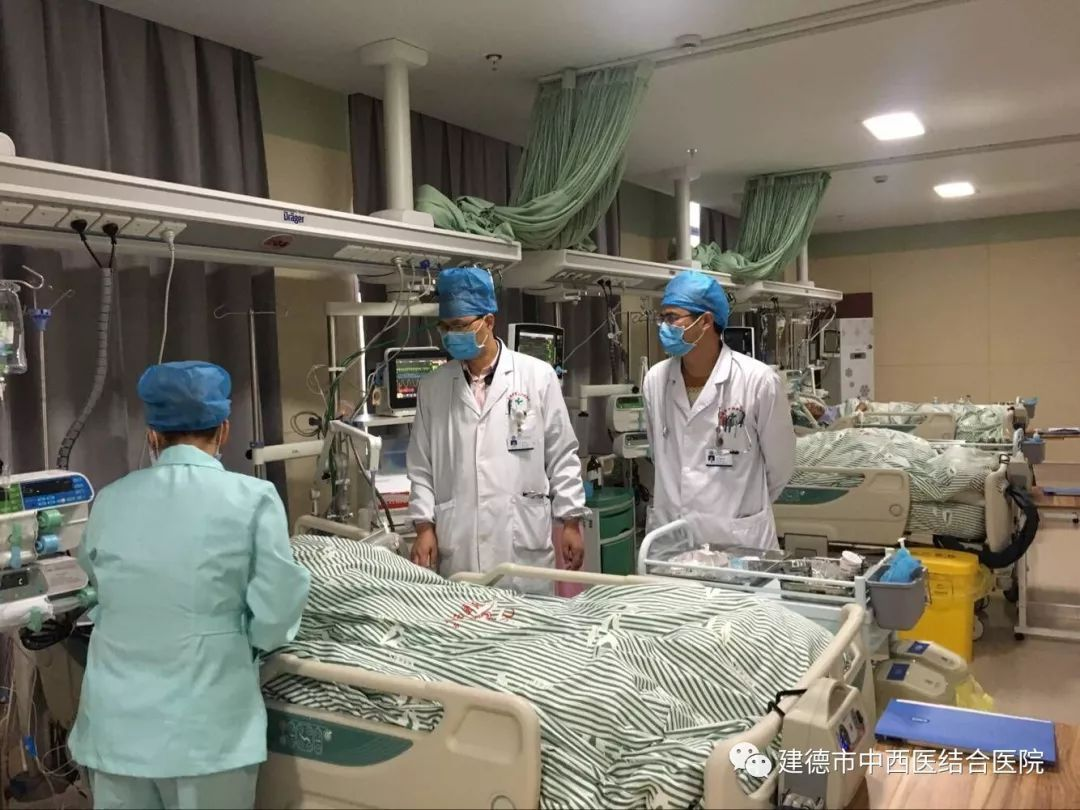rightmask: (657, 267, 729, 392), (432, 266, 501, 383)
